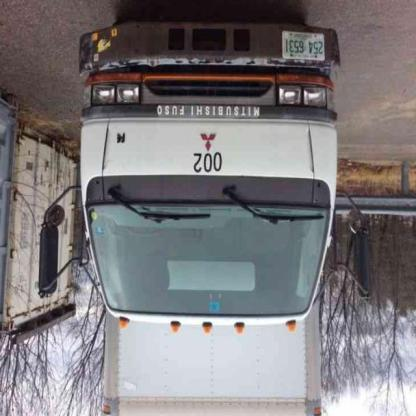truck: (41, 25, 375, 416)
